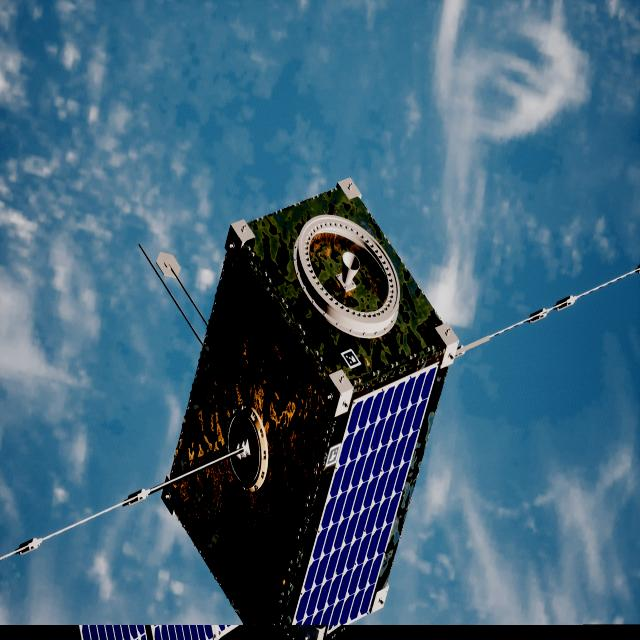medium_debris: (129, 180, 465, 640)
